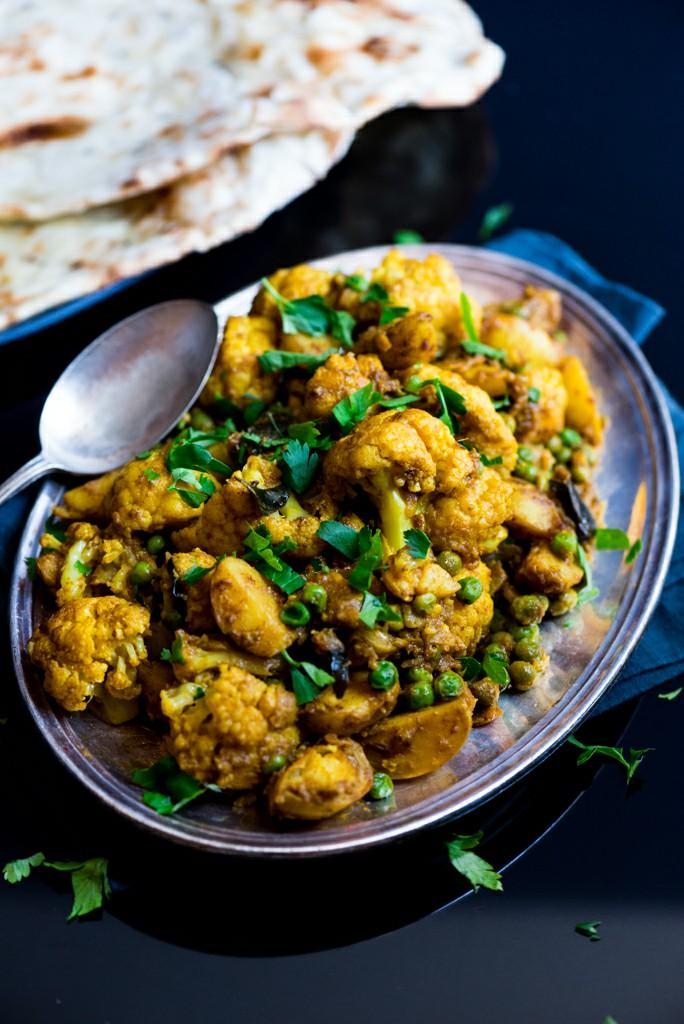AlooGobi: (28, 254, 610, 818)
